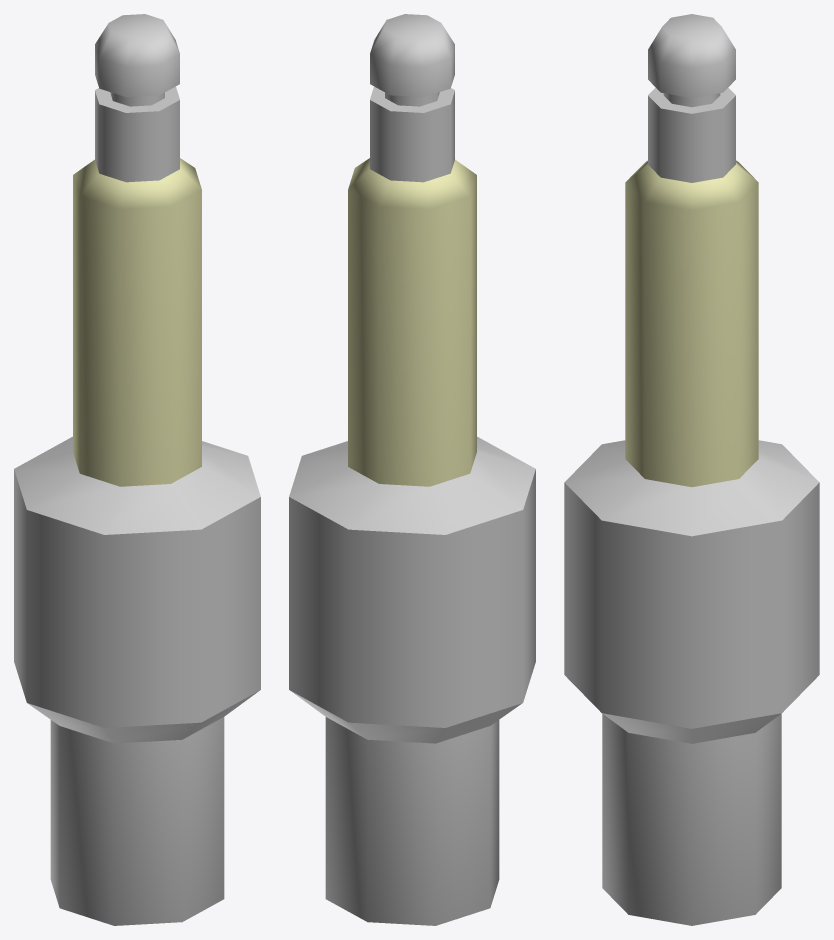
File: SparkPlug.fbx
3 renders of one model, left to right at view 1: azimuth 30°, elevation 25°; view 2: azimuth 150°, elevation 25°; view 3: azimuth 270°, elevation 25°, orthographic.
Visible parts, largest first — view 1: pCylinder90; view 2: pCylinder90; view 3: pCylinder90.
Boxes of the visible parts, x1,y1,x2,y2 form: pCylinder90: (14,14,260,925); pCylinder90: (289,14,535,925); pCylinder90: (564,14,819,925).
Size of the model in its own units: 0.4 by 1.49 by 0.4.
